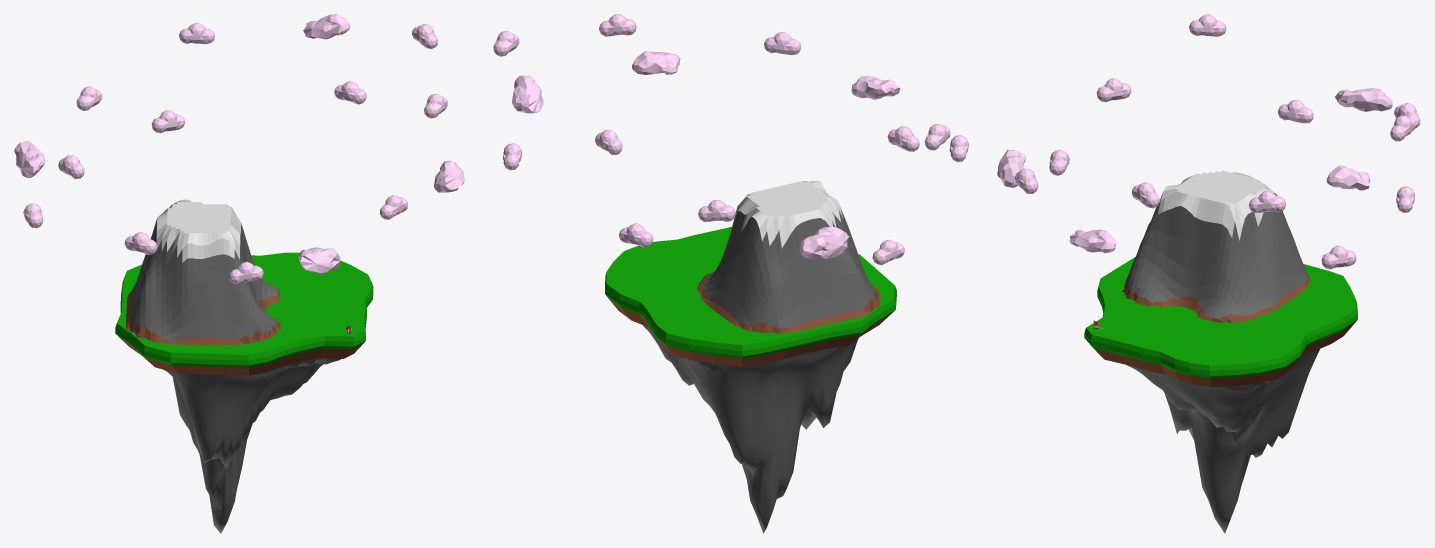
Rendered from niveau1.glb.
3 renders of one model, left to right at view 1: azimuth 30°, elevation 25°; view 2: azimuth 150°, elevation 25°; view 3: azimuth 270°, elevation 25°, orthographic. The views are drawn at different scales.
Parts seen in each view (by area): view 1: Landscape.005, Cylindre, Landscape, Cloud_4.002, Cloud_4.004, Cloud_4.001, Cloud_4.003, NUAGE.014, NUAGE.006, NUAGE.010, NUAGE.005, NUAGE.008; view 2: Landscape.005, Cylindre, Landscape, Cloud_4.001, Cloud_4.004, Cloud_4.003, Cloud_4.002, NUAGE.016, NUAGE.007, NUAGE, NUAGE.010, NUAGE.006 (+1 smaller); view 3: Landscape.005, Cylindre, Landscape, Cloud_4.001, Cloud_4.003, Cloud_4.004, Cloud_4.002, NUAGE.009, NUAGE.015, NUAGE.004, NUAGE.008, NUAGE.005 (+1 smaller).
Boxes of the visible parts, bbox=[...] form: Landscape.005: bbox=[125, 199, 280, 345]; Cylindre: bbox=[115, 252, 373, 375]; Landscape: bbox=[164, 358, 340, 533]; Cloud_4.002: bbox=[298, 247, 340, 274]; Cloud_4.004: bbox=[303, 14, 350, 39]; Cloud_4.001: bbox=[14, 141, 44, 177]; Cloud_4.003: bbox=[434, 160, 464, 192]; NUAGE.014: bbox=[179, 22, 214, 43]; NUAGE.006: bbox=[229, 261, 263, 284]; NUAGE.010: bbox=[151, 110, 184, 133]; NUAGE.005: bbox=[124, 232, 157, 255]; NUAGE.008: bbox=[334, 81, 366, 104]; Landscape.005: bbox=[697, 180, 882, 333]; Cylindre: bbox=[605, 226, 896, 366]; Landscape: bbox=[643, 325, 858, 533]; Cloud_4.001: bbox=[800, 226, 849, 259]; Cloud_4.004: bbox=[511, 75, 543, 113]; Cloud_4.003: bbox=[632, 51, 680, 74]; Cloud_4.002: bbox=[851, 75, 900, 99]; NUAGE.016: bbox=[599, 14, 636, 36]; NUAGE.007: bbox=[764, 31, 801, 54]; NUAGE: bbox=[698, 200, 735, 221]; NUAGE.010: bbox=[619, 223, 653, 247]; NUAGE.006: bbox=[887, 126, 919, 151]; Landscape.005: bbox=[1121, 170, 1311, 322]; Cylindre: bbox=[1084, 257, 1357, 387]; Landscape: bbox=[1127, 349, 1319, 533]; Cloud_4.001: bbox=[1334, 88, 1392, 111]; Cloud_4.003: bbox=[1069, 229, 1115, 253]; Cloud_4.004: bbox=[1326, 165, 1369, 190]; Cloud_4.002: bbox=[997, 149, 1026, 187]; NUAGE.009: bbox=[1189, 14, 1226, 36]; NUAGE.015: bbox=[1248, 191, 1285, 212]; NUAGE.004: bbox=[1278, 99, 1313, 123]; NUAGE.008: bbox=[1321, 245, 1356, 269]; NUAGE.005: bbox=[1096, 78, 1131, 102].
Bounding box in the file's own units: 536 × 566 × 476.
